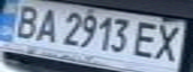1: (93, 14, 115, 53)
2: (57, 8, 84, 47)
3: (109, 16, 136, 55)
9: (75, 11, 100, 51)
A: (30, 6, 63, 43)
B: (6, 2, 45, 39)
E: (130, 18, 163, 61)
X: (148, 21, 190, 62)
